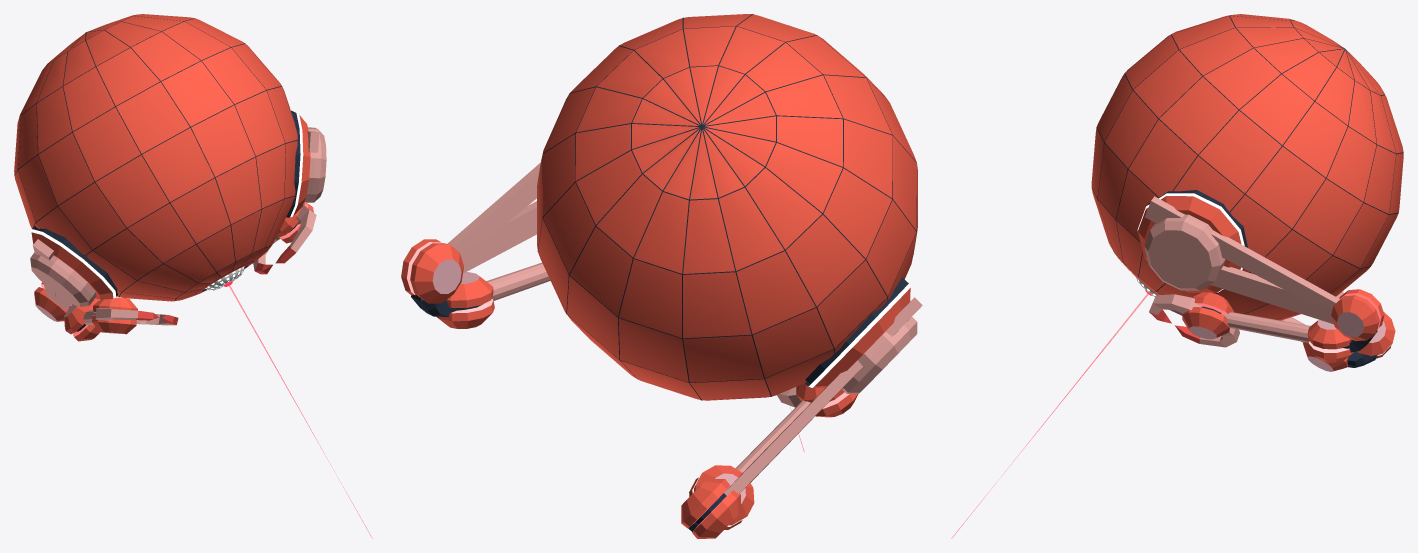
The model's file is Robot1.fbx.
3 views of the same model, side by side, from view 1: azimuth 30°, elevation 25°; view 2: azimuth 150°, elevation 25°; view 3: azimuth 270°, elevation 25° (orthographic). The views are drawn at different scales.
Visible parts, largest first — view 1: Sphere, Cylinder.055, Cylinder.029, Cylinder.066, Cylinder.071, Cylinder.032, Cylinder.068, Cylinder.040; view 2: Sphere, Cylinder.055, Cylinder.023, Cylinder.029, Cylinder.066, Cylinder.030, Cylinder.071, Cylinder.067; view 3: Sphere, Cylinder.029, Cylinder.023, Cylinder.040, Cylinder.066, Cylinder.030, Cylinder.032, Cylinder.039.
Part boxes in pixels (bbox=[...]): Sphere: bbox=[14, 14, 297, 301]; Cylinder.055: bbox=[30, 226, 118, 310]; Cylinder.029: bbox=[286, 110, 326, 217]; Cylinder.066: bbox=[34, 282, 100, 341]; Cylinder.071: bbox=[92, 297, 137, 334]; Cylinder.032: bbox=[275, 205, 316, 263]; Cylinder.068: bbox=[95, 308, 159, 320]; Cylinder.040: bbox=[277, 202, 313, 243]; Sphere: bbox=[537, 14, 917, 400]; Cylinder.055: bbox=[724, 277, 922, 495]; Cylinder.023: bbox=[401, 239, 494, 328]; Cylinder.029: bbox=[447, 163, 540, 273]; Cylinder.066: bbox=[681, 465, 754, 538]; Cylinder.030: bbox=[486, 262, 550, 300]; Cylinder.071: bbox=[796, 383, 858, 417]; Cylinder.067: bbox=[735, 400, 810, 482]; Sphere: bbox=[1091, 14, 1403, 320]; Cylinder.029: bbox=[1137, 190, 1339, 324]; Cylinder.023: bbox=[1307, 289, 1384, 362]; Cylinder.040: bbox=[1182, 292, 1233, 339]; Cylinder.066: bbox=[1303, 312, 1395, 371]; Cylinder.030: bbox=[1221, 312, 1310, 342]; Cylinder.032: bbox=[1149, 294, 1201, 323]; Cylinder.039: bbox=[1175, 325, 1239, 347].
Bounding box in the file's own units: 19.87 × 25.5 × 22.3.
